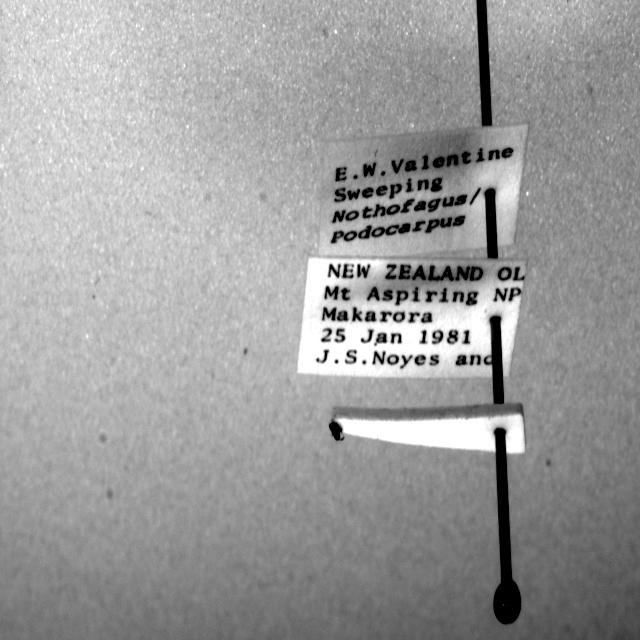typed_label: (319, 124, 529, 257), (298, 259, 526, 377)
